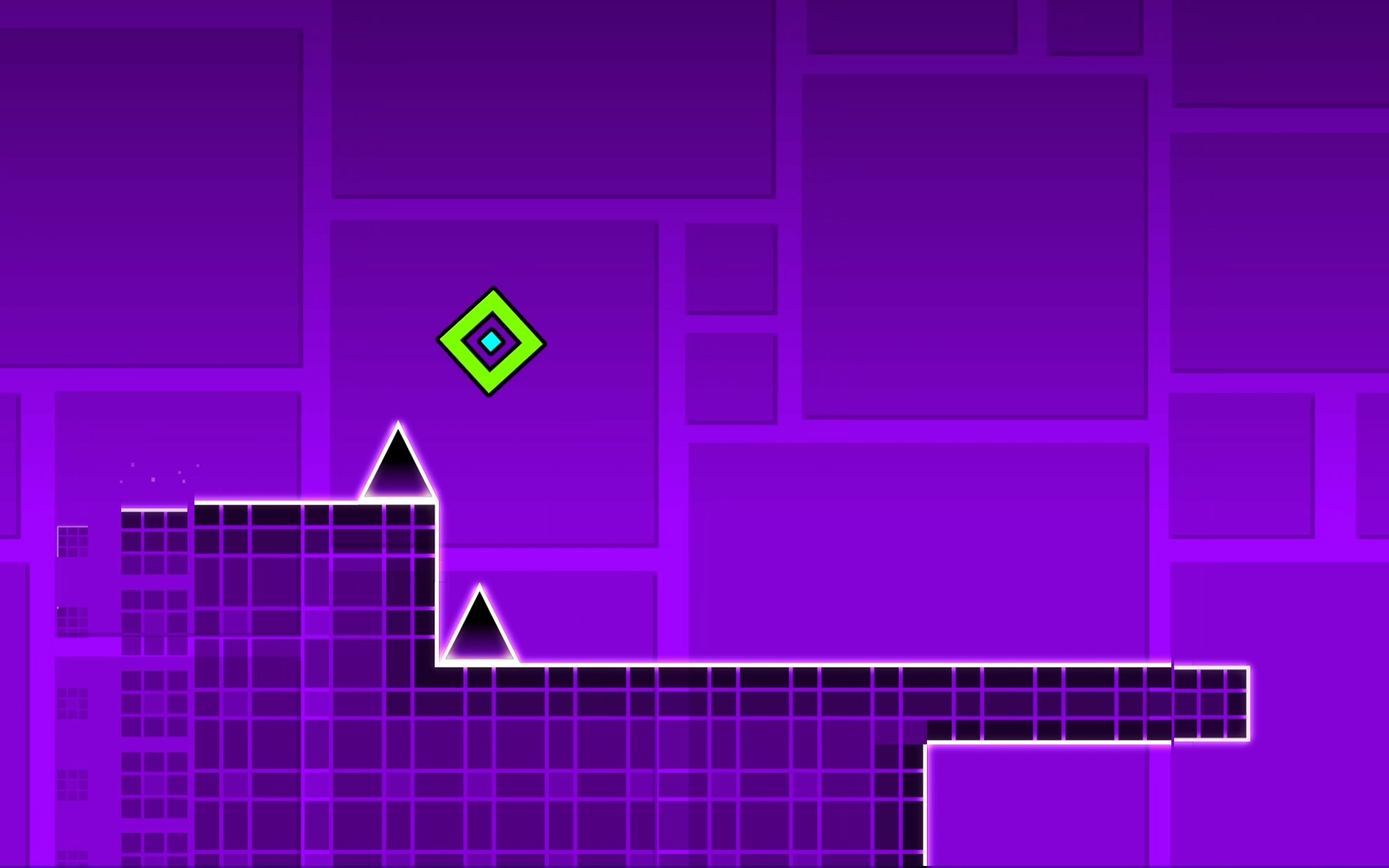Block2: (118, 503, 431, 868), (434, 658, 923, 868), (921, 662, 1248, 740)
Player: (435, 286, 547, 393)
Spike: (358, 421, 436, 501), (440, 584, 518, 663)
